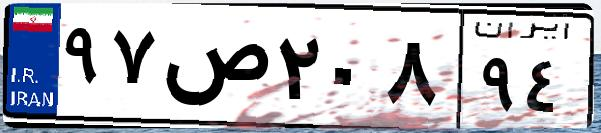0: (330, 28, 385, 110)
2: (270, 28, 330, 110)
4: (525, 38, 570, 115)
7: (110, 28, 158, 98)
8: (385, 28, 445, 110)
9: (57, 26, 110, 100), (475, 38, 525, 113)
ص: (158, 20, 270, 120)
